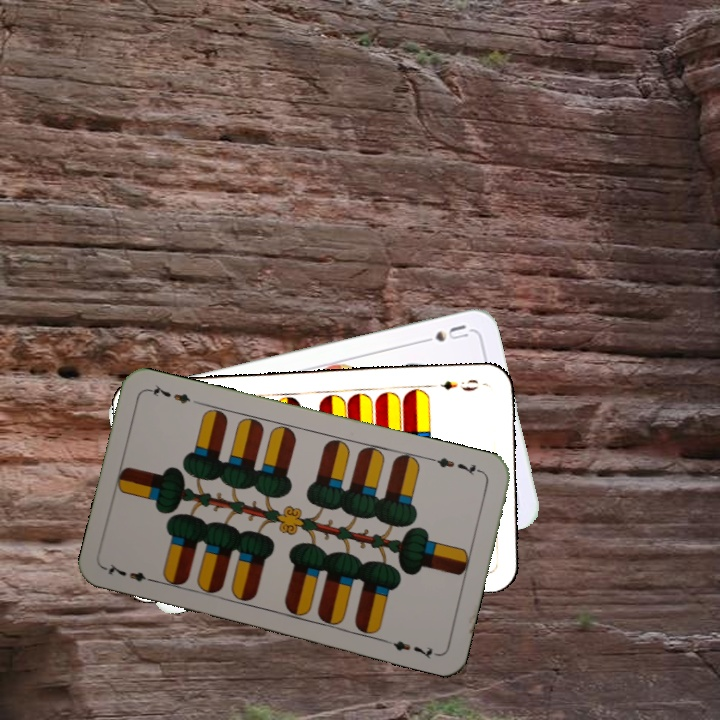E7: (102, 559, 160, 586), (427, 453, 486, 478)
E9: (436, 375, 481, 394)
SU: (414, 320, 471, 347)
